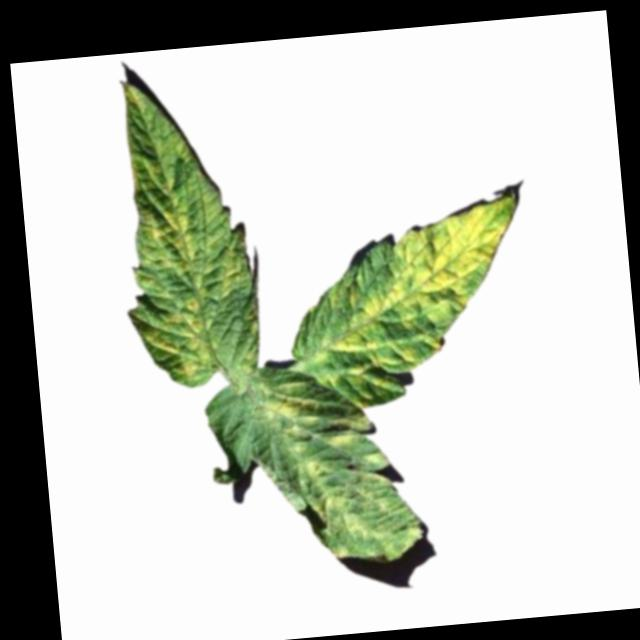Leaf_Mold: (288, 185, 538, 410), (110, 69, 269, 393), (256, 371, 422, 571)
